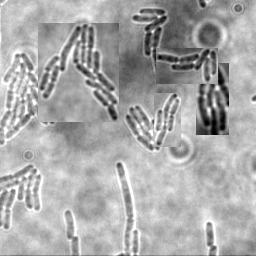Dividing: (114, 161, 133, 255), (204, 221, 215, 248)
Microcolony: (38, 23, 119, 122), (1, 51, 56, 147), (1, 162, 44, 231), (196, 63, 229, 135), (130, 8, 167, 72), (156, 48, 218, 84), (124, 106, 160, 153), (154, 93, 181, 147), (63, 208, 74, 240)
